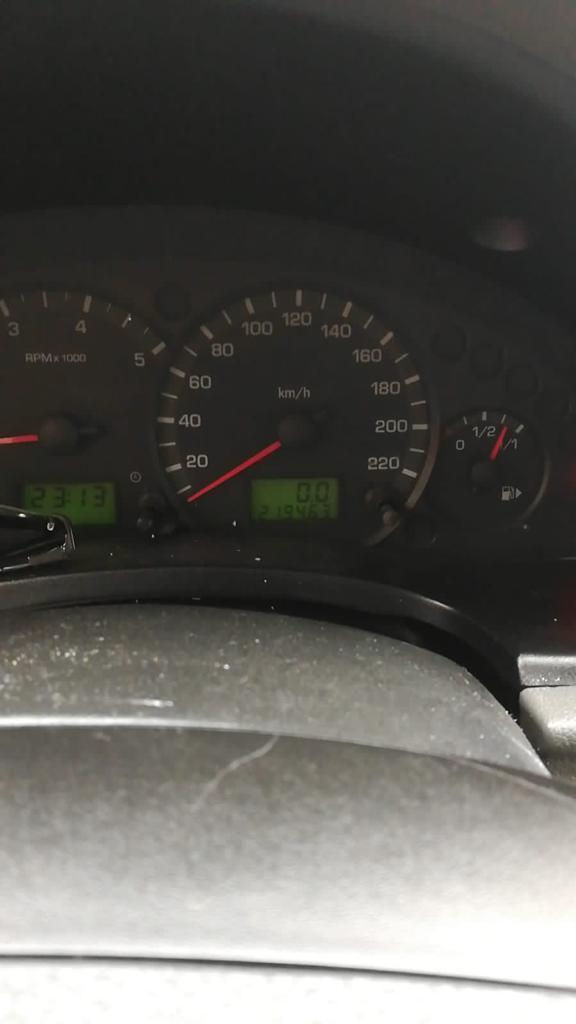,: (310, 498, 314, 503)
0: (315, 480, 329, 502), (296, 482, 310, 502)
1: (274, 504, 282, 519)
2: (257, 505, 269, 520)
3: (320, 503, 330, 520)
4: (295, 504, 306, 519)
6: (307, 503, 318, 519)
9: (284, 504, 293, 520)
odometer: (245, 475, 344, 523)
